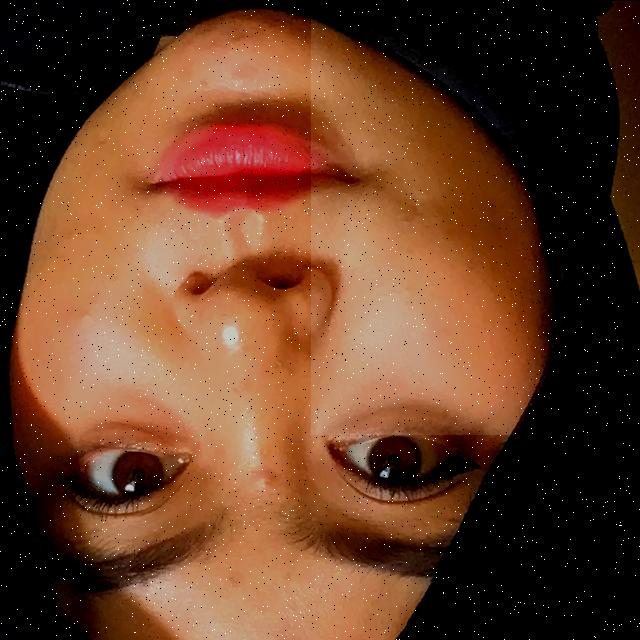kapan: (310, 0, 640, 434)
